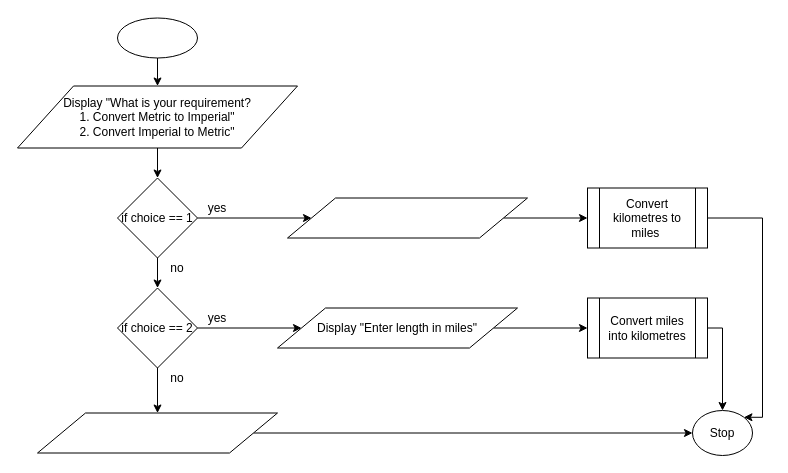
Some shapes in this 788 by 473 pixel diagram are drawn without their labels. The centre of each missing label's shape, as x and y in pixels:
Display "Enter length in kilometres": point 407,217
Display "Invalid choice": point 157,432
Start: point 157,37
